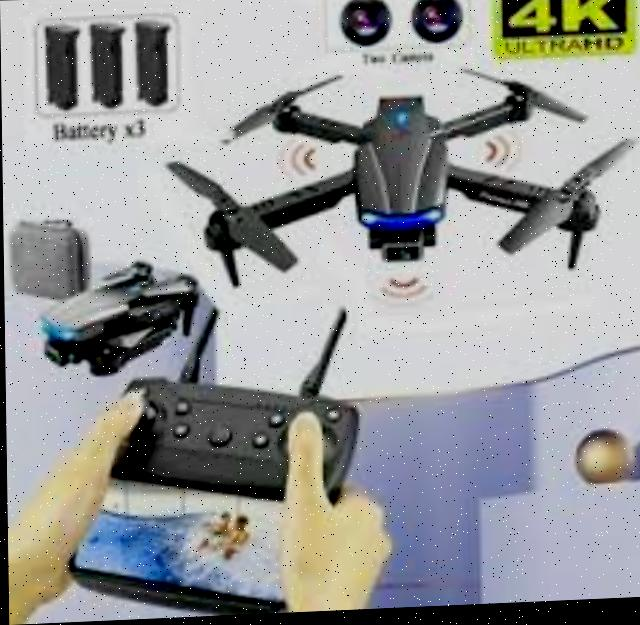drone: (162, 68, 631, 316)
